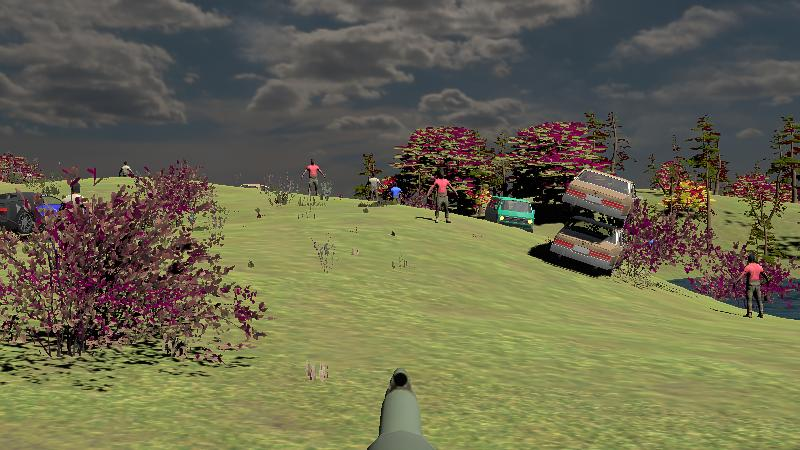Human: (737, 253, 770, 319), (428, 169, 457, 224), (301, 157, 324, 203)
car: (561, 169, 636, 228), (550, 221, 623, 277), (485, 195, 534, 233)
